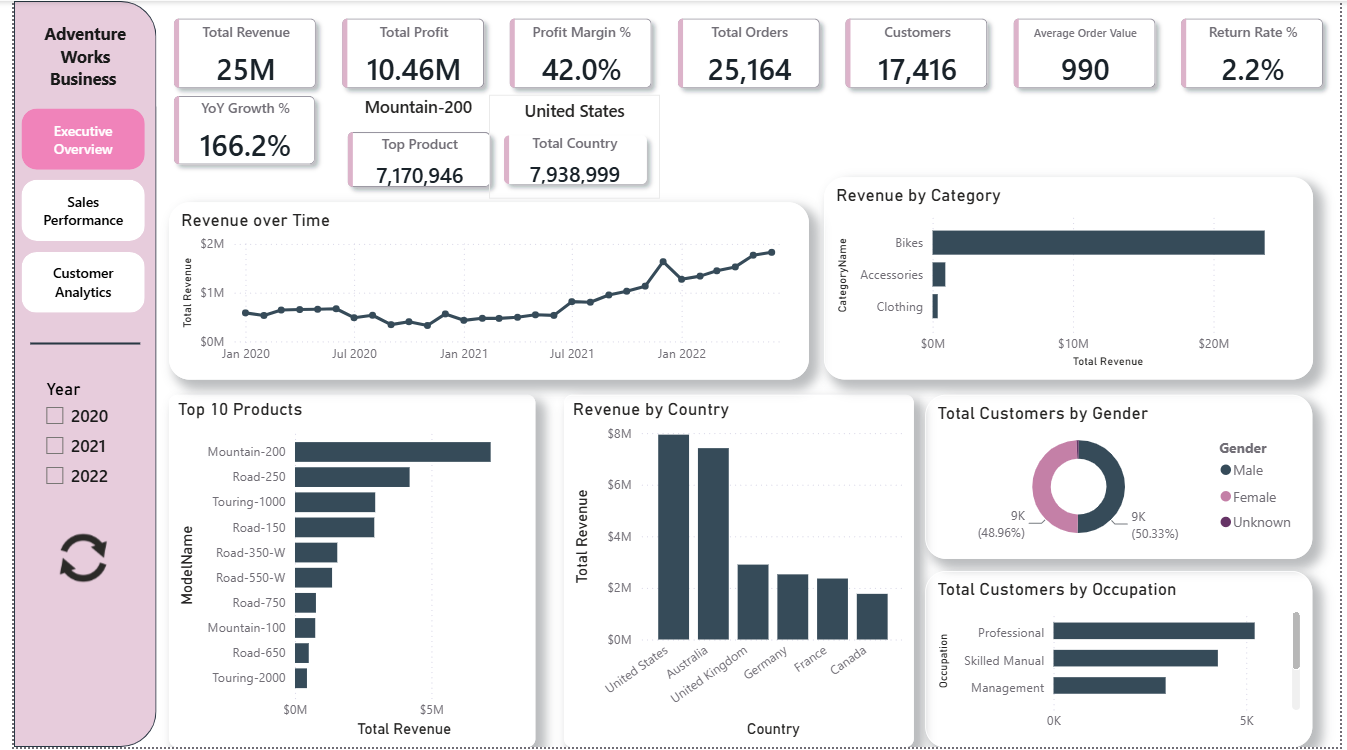

Layout of this report page (visuals, bound fields, positions):
{"tool":"powerbi","page":{"name":"Executive Overview","canvas":[1280,720],"ordinal":0},"visuals":[{"type":"shape","box":[0,0,137.5,720],"z":0},{"type":"slicer","fields":{"Values":["AdventureWorks Calendar Lookup.Date.Variation.Date Hierarchy.Year"]},"box":[18.1,359.5,111,127.9],"z":1000},{"type":"clusteredBarChart","title":"Top 10 Products","fields":{"Category":["AdventureWorks Product Lookup.ModelName"],"Y":["Table1.Total Revenue"]},"box":[149.6,380,353.5,340.2],"z":2000},{"type":"cardVisual","fields":{"Data":["Table1.Total Revenue","Table1.Total Profit","Table1.Profit Margin %","Table1.Total Orders","Table1.Total Customers","Table1.Average Order Value","Table1.Return Rate %"]},"box":[137.2,0,1143.1,101.5],"z":3000},{"type":"textbox","box":[17.5,16.2,101.2,85],"z":4000},{"type":"cardVisual","fields":{"Data":["Table1.YoY Growth %"]},"box":[137.5,74.8,170.1,100.1],"z":5000},{"type":"lineChart","title":"Revenue over Time","fields":{"Category":["AdventureWorks Calendar Lookup.Date.Variation.Date Hierarchy.Year","AdventureWorks Calendar Lookup.Date.Variation.Date Hierarchy.Month"],"Y":["Table1.Total Revenue"]},"box":[149.6,194.2,617.7,171.3],"z":6000},{"type":"columnChart","title":"Revenue by Country","fields":{"Category":["AdventureWorks Territory Lookup.Country"],"Y":["Table1.Total Revenue"]},"box":[530.8,380,337.8,340.2],"z":7000},{"type":"barChart","title":"Revenue by Category","fields":{"Category":["AdventureWorks Product Categori.CategoryName"],"Y":["Table1.Total Revenue"]},"box":[781.8,170.1,471.7,195.4],"z":8000},{"type":"donutChart","fields":{"Category":["AdventureWorks Customer Lookup.Gender"],"Y":["Table1.Total Customers"]},"box":[879.5,380,374,158],"z":9000},{"type":"barChart","fields":{"Category":["AdventureWorks Customer Lookup.Occupation"],"Y":["Table1.Total Customers"]},"box":[879.5,550.1,374,170.1],"z":10000},{"type":"shape","box":[15.7,301.6,106.2,57.9],"z":11000},{"type":"pageNavigator","box":[7.2,103.8,119.4,197.9],"z":12000},{"type":"actionButton","box":[25.3,503.1,83.2,68.8],"z":13000},{"type":"cardVisual","fields":{"Data":["Table1.Total Revenue"],"Rows":["AdventureWorks Product Lookup.ModelName"]},"box":[307.6,85.7,165.3,108.6],"z":14000},{"type":"cardVisual","fields":{"Data":["Table1.Total Revenue"],"Rows":["AdventureWorks Territory Lookup.Country"]},"box":[458.4,90.5,165.3,100.1],"z":15000}]}

Visuals, with their boxes in screenshot pixels (x1, y1, x2, y2), scaled from the page's 1280x720 canvas onto the 1347x750 screenshot:
shape: BBox(0, 0, 145, 749)
slicer - AdventureWorks Calendar Lookup.Date.Variation.Date Hierarchy.Year: BBox(19, 374, 136, 508)
"Top 10 Products" clusteredBarChart: BBox(157, 396, 529, 749)
cardVisual - Table1.Total Revenue x Table1.Total Profit: BBox(144, 0, 1346, 106)
textbox: BBox(18, 17, 125, 105)
cardVisual - Table1.YoY Growth %: BBox(145, 78, 324, 182)
"Revenue over Time" lineChart: BBox(157, 202, 807, 381)
"Revenue by Country" columnChart: BBox(559, 396, 914, 749)
"Revenue by Category" barChart: BBox(823, 177, 1319, 381)
donutChart - AdventureWorks Customer Lookup.Gender x Table1.Total Customers: BBox(926, 396, 1319, 560)
barChart - AdventureWorks Customer Lookup.Occupation x Table1.Total Customers: BBox(926, 573, 1319, 749)
shape: BBox(17, 314, 128, 374)
pageNavigator: BBox(8, 108, 133, 314)
actionButton: BBox(27, 524, 114, 596)
cardVisual - Table1.Total Revenue x AdventureWorks Product Lookup.ModelName: BBox(324, 89, 498, 202)
cardVisual - Table1.Total Revenue x AdventureWorks Territory Lookup.Country: BBox(482, 94, 656, 199)
